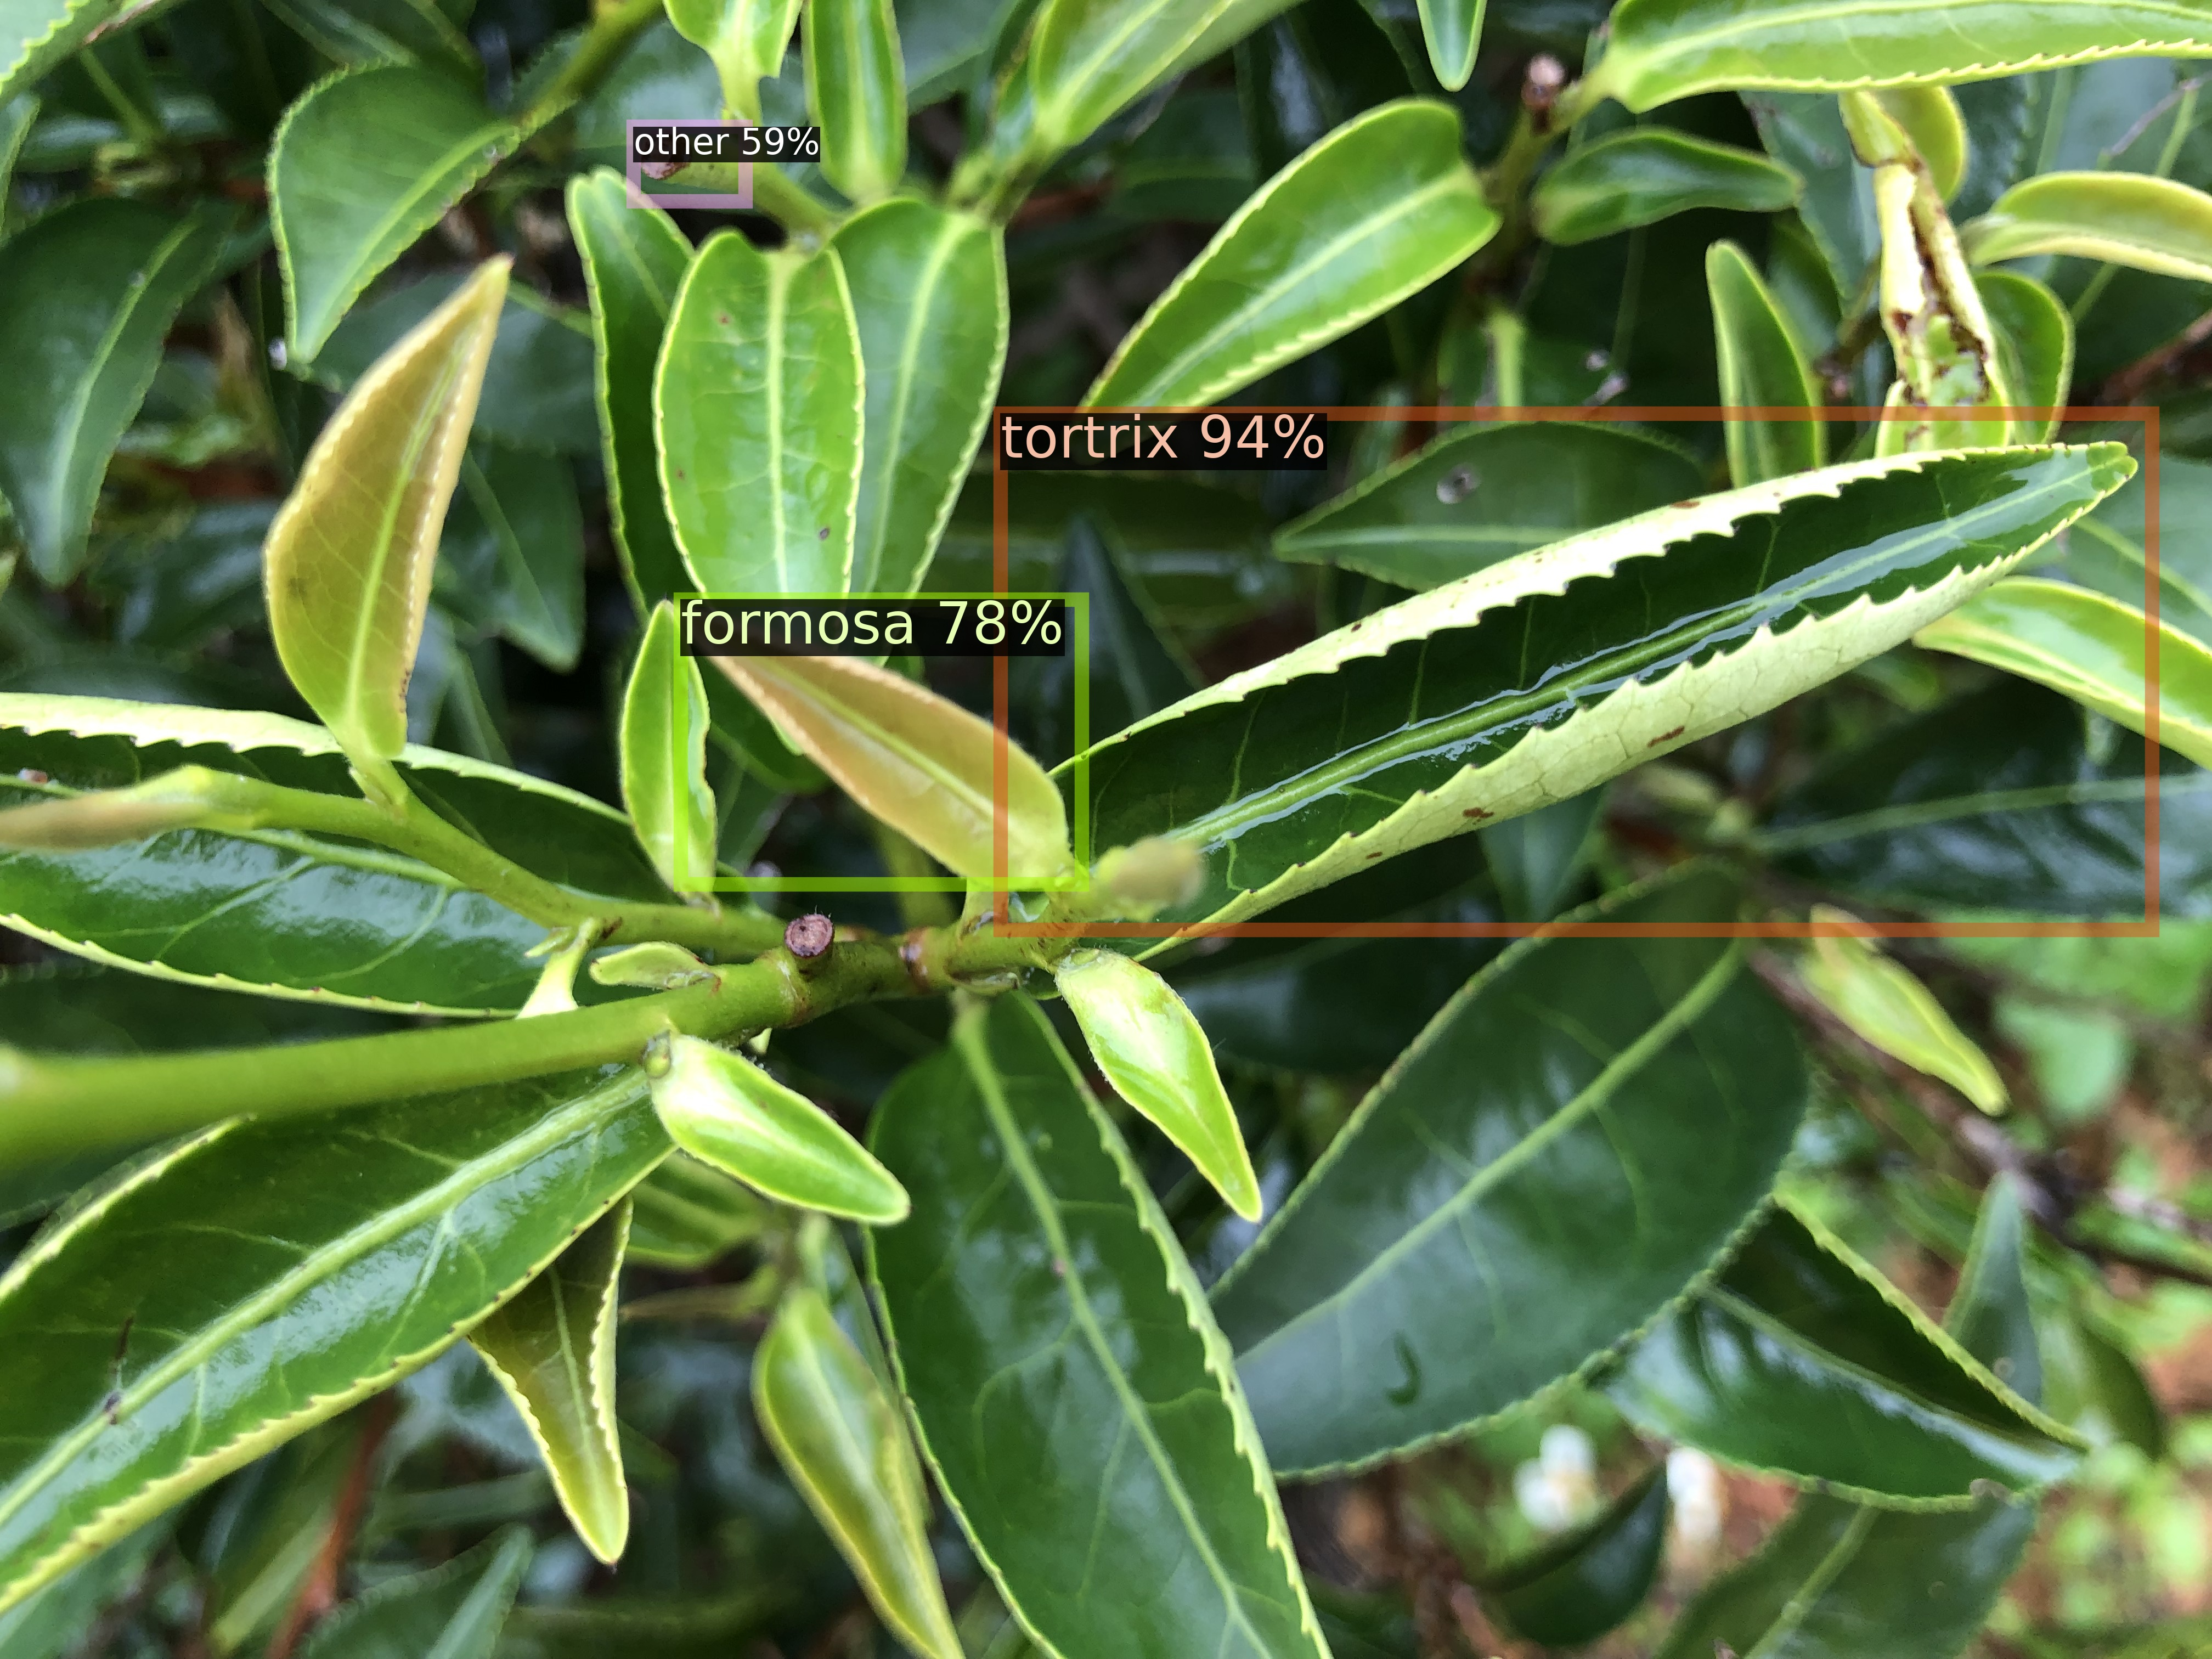formosa: (681, 599, 1082, 884)
other: (632, 127, 745, 202)
tortrix: (1001, 413, 2153, 929)
